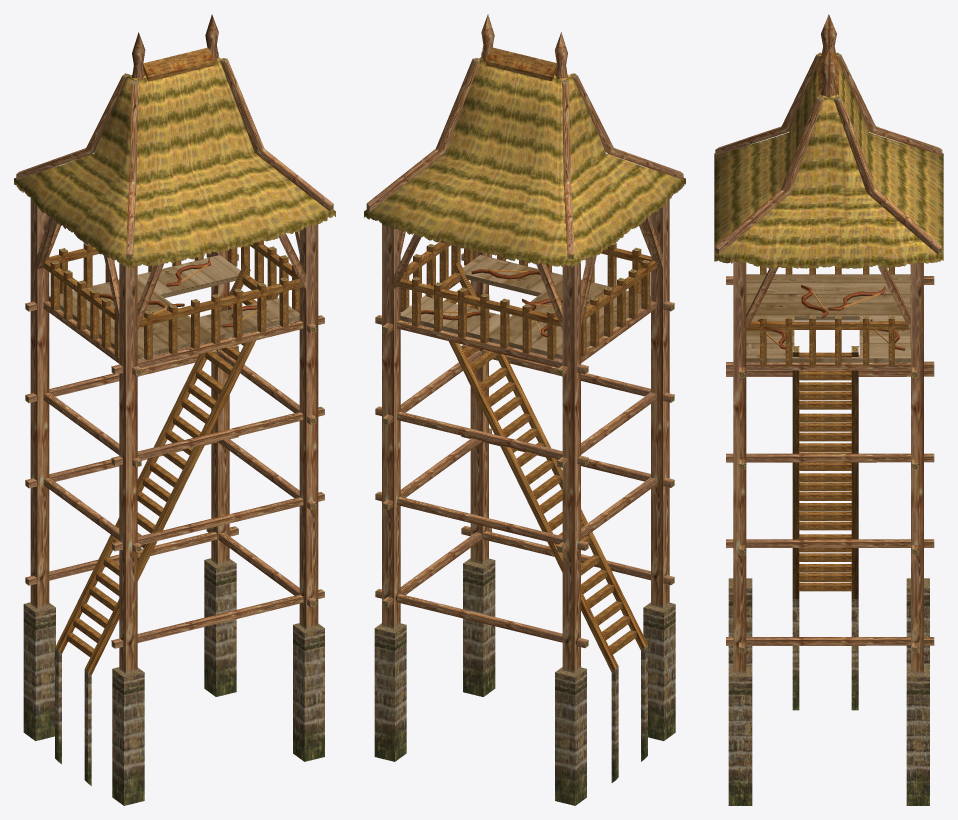
The model's file is stone_tower.dae.
3 renders of one model, left to right at view 1: azimuth 30°, elevation 25°; view 2: azimuth 150°, elevation 25°; view 3: azimuth 270°, elevation 25°, orthographic.
Parts seen in each view (by area): view 1: stone_tower; view 2: stone_tower; view 3: stone_tower.
Part boxes in pixels (x1,y1,x2,y2): stone_tower: (14, 14, 335, 805); stone_tower: (364, 14, 685, 805); stone_tower: (714, 14, 943, 805).
Size of the model in its own units: 7.94 by 7.48 by 26.17.
